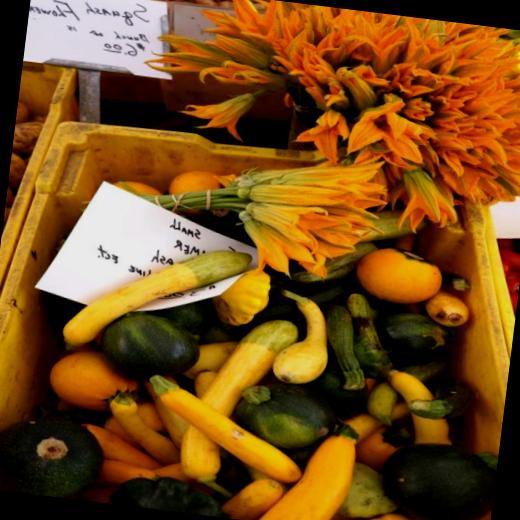Grape: (350, 244, 448, 308), (169, 169, 224, 197), (116, 180, 160, 194)
